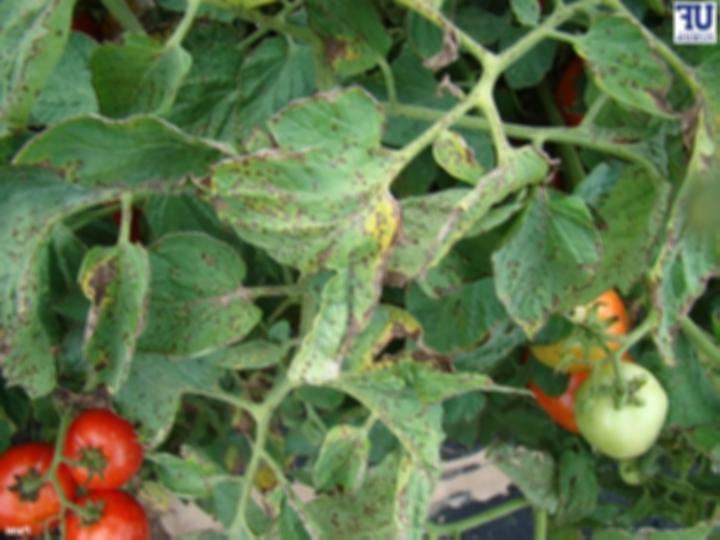Tomato leaf bacterial spot: (214, 80, 435, 376), (112, 227, 276, 365), (350, 343, 462, 536), (484, 172, 601, 351), (9, 115, 239, 201), (74, 234, 167, 404), (313, 426, 379, 505)
